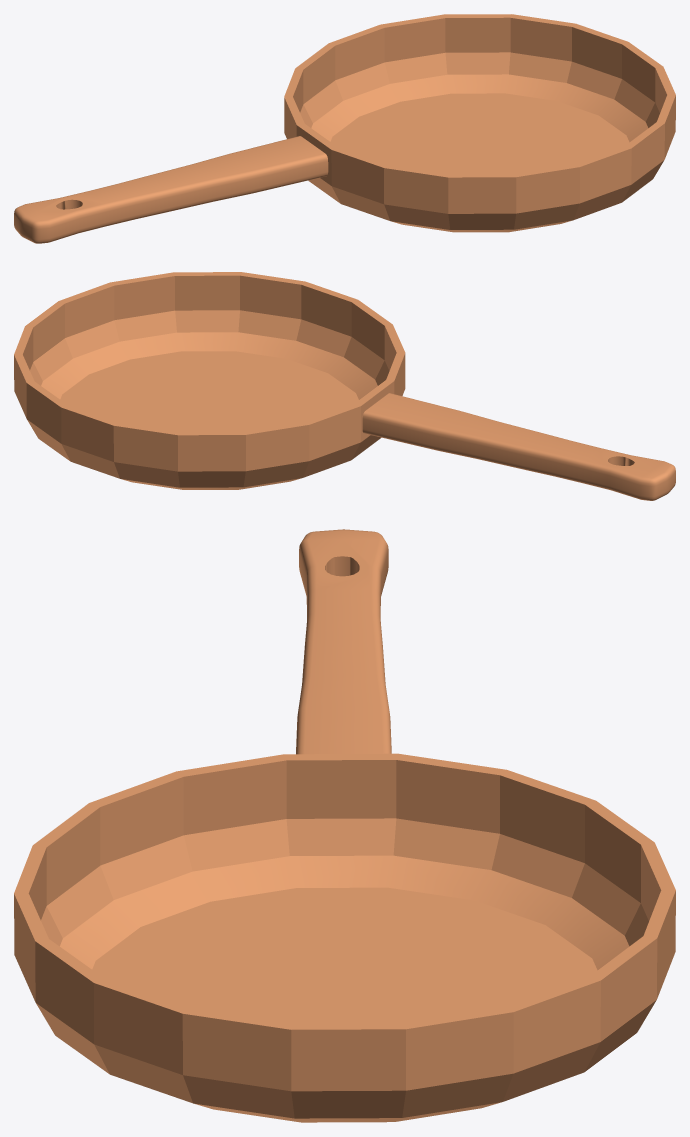
File: pingdiguo.fbx
3 views of the same model, one above another, from view 1: azimuth 30°, elevation 25°; view 2: azimuth 150°, elevation 25°; view 3: azimuth 270°, elevation 25° (orthographic). The views are drawn at different scales.
Parts seen in each view (by area): view 1: Box011; view 2: Box011; view 3: Box011.
Boxes of the visible parts, x1,y1,x2,y2 form: Box011: (14,14,675,243); Box011: (14,272,675,500); Box011: (14,529,675,1122).
Bounding box in the file's own units: 10.84 × 1.16 × 5.87.
